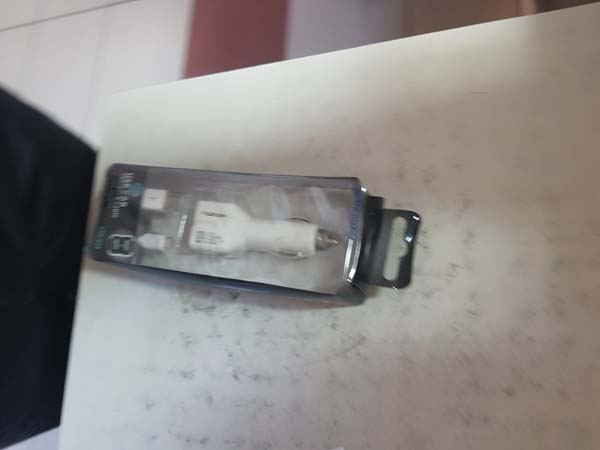usbcarcharger: (88, 163, 425, 310)
